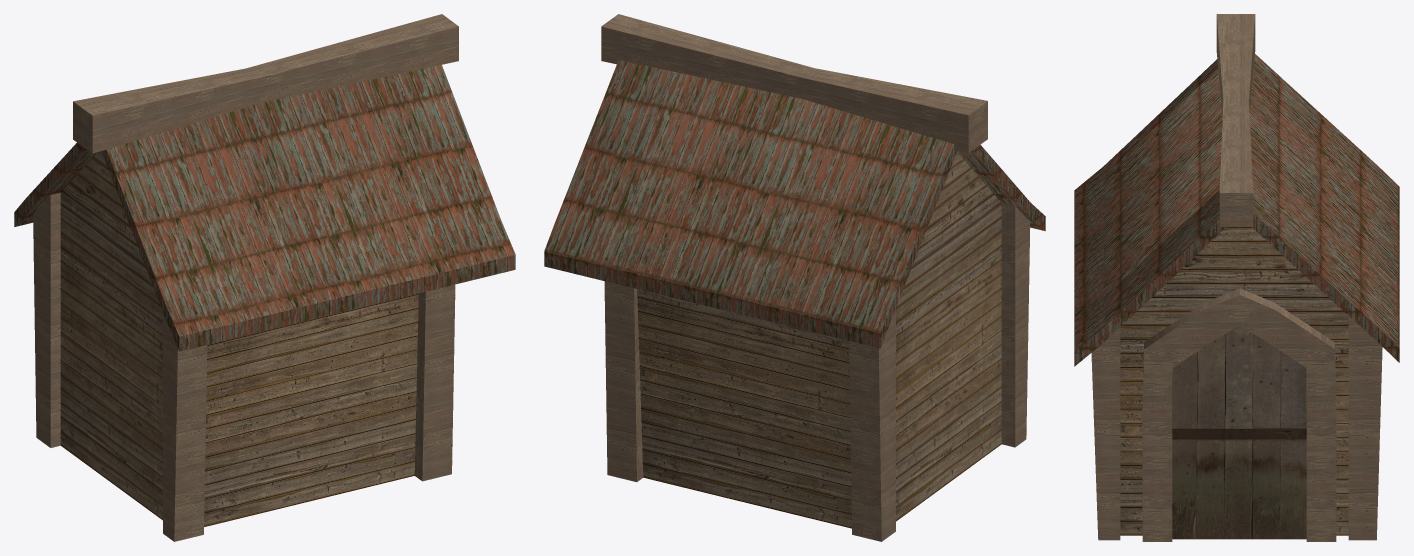
Rendered from OU_AR_Hut_01_D.fbx.
3 renders of one model, left to right at view 1: azimuth 30°, elevation 25°; view 2: azimuth 150°, elevation 25°; view 3: azimuth 270°, elevation 25°, orthographic.
Parts seen in each view (by area): view 1: Hut; view 2: Hut; view 3: Hut.
Boxes of the visible parts, x1,y1,x2,y2 form: Hut: (14,14,515,541); Hut: (544,14,1045,541); Hut: (1074,14,1399,541).
Bounding box in the file's own units: 238 × 240 × 185.
Materials: 4 (4 with a texture image).
